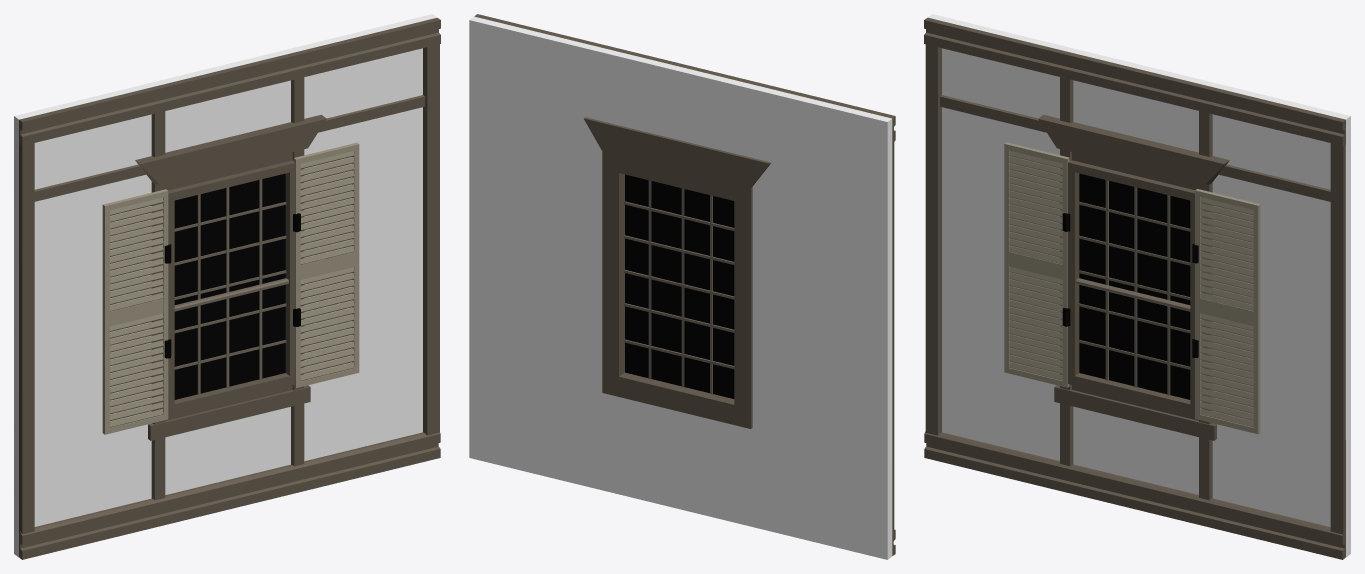
Rendered from WINDOW_07_1.glb.
3 views of the same model, side by side, from view 1: azimuth 30°, elevation 25°; view 2: azimuth 150°, elevation 25°; view 3: azimuth 330°, elevation 25° (orthographic).
Visible parts, largest first — view 1: WINDOW_07_1; view 2: WINDOW_07_1; view 3: WINDOW_07_1.
Part boxes in pixels (x1=…): WINDOW_07_1: x1=14, y1=14, x2=440, y2=559; WINDOW_07_1: x1=469, y1=14, x2=895, y2=559; WINDOW_07_1: x1=924, y1=14, x2=1350, y2=559.
Size of the model in its own units: 3 by 3 by 0.1657.
1 material, 1 textured.
